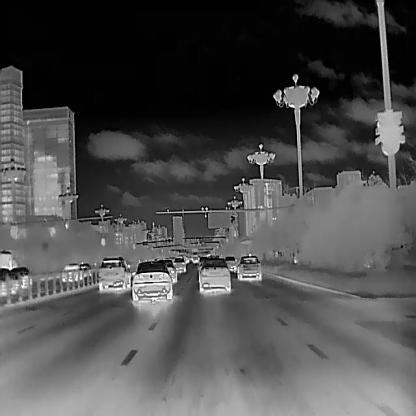car: (131, 258, 172, 303), (198, 255, 230, 293), (98, 256, 130, 290), (236, 255, 261, 280), (10, 267, 32, 290), (1, 266, 14, 292), (162, 258, 175, 282), (62, 262, 79, 280), (77, 263, 93, 280), (172, 255, 186, 272), (224, 254, 236, 272)
